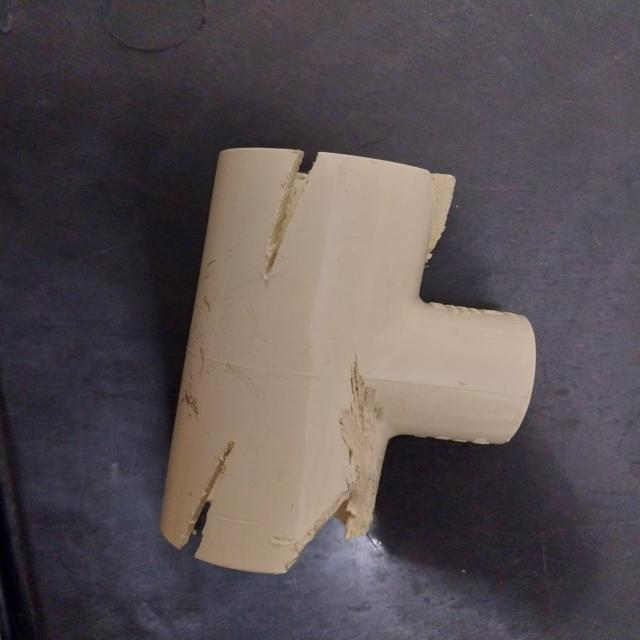Defective: (291, 340, 382, 574), (257, 143, 344, 299), (170, 442, 258, 562), (414, 162, 459, 286)
T Joint: (157, 148, 538, 578)
